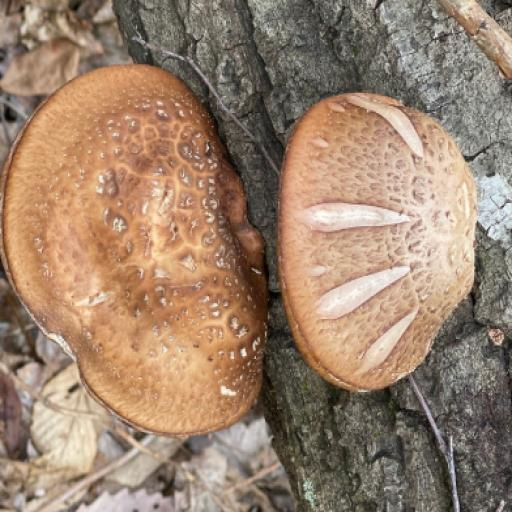Shiitake Mushroom: (0, 57, 292, 450), (282, 101, 470, 380)
